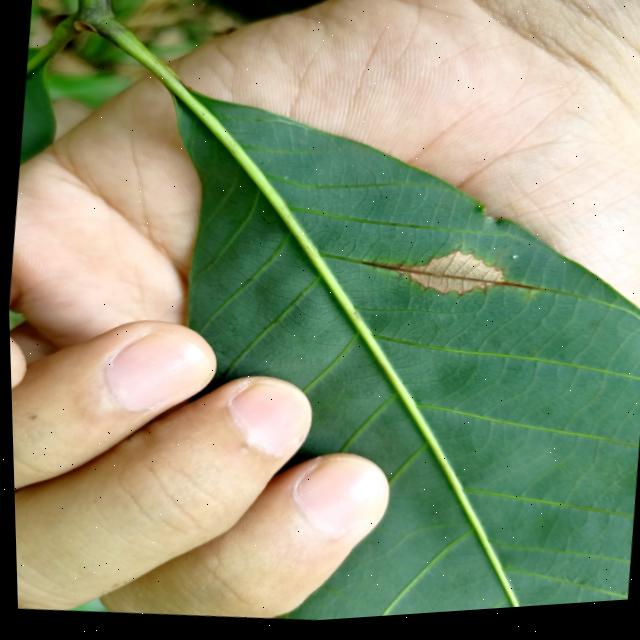Corynespora: (355, 242, 540, 317)
Leaf-Blight: (406, 251, 503, 307)
